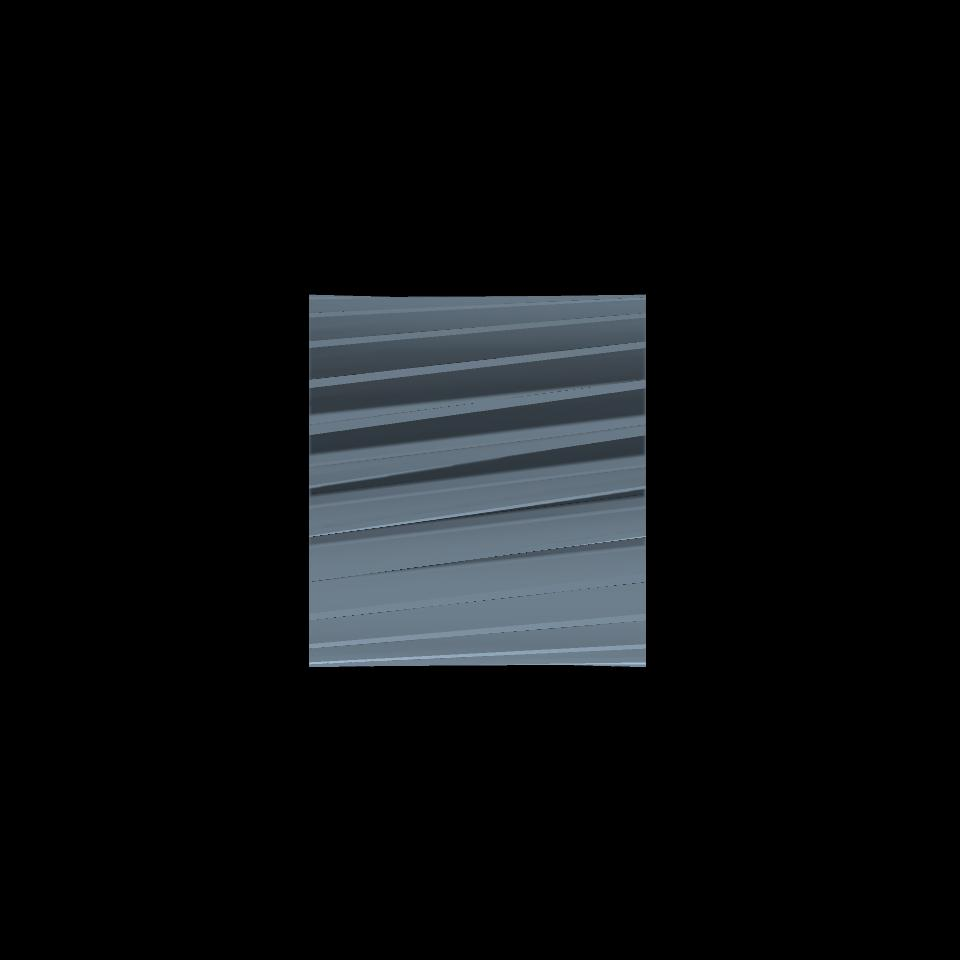Helical: (309, 294, 644, 662)
